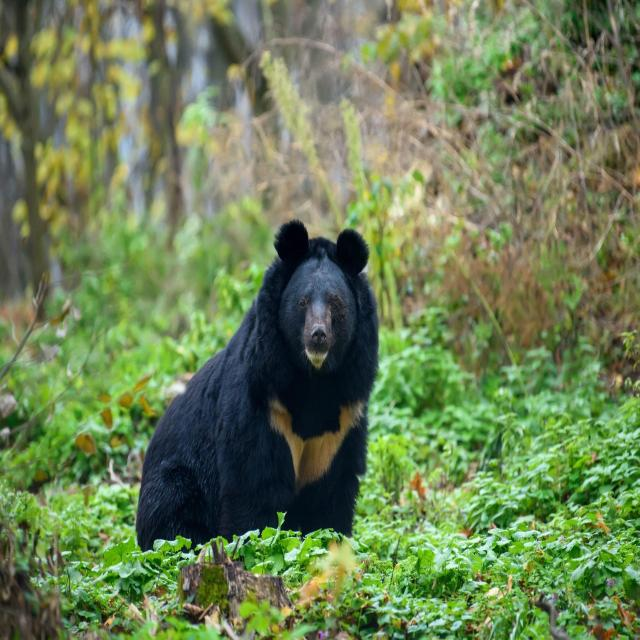Bear: (134, 222, 380, 552)
